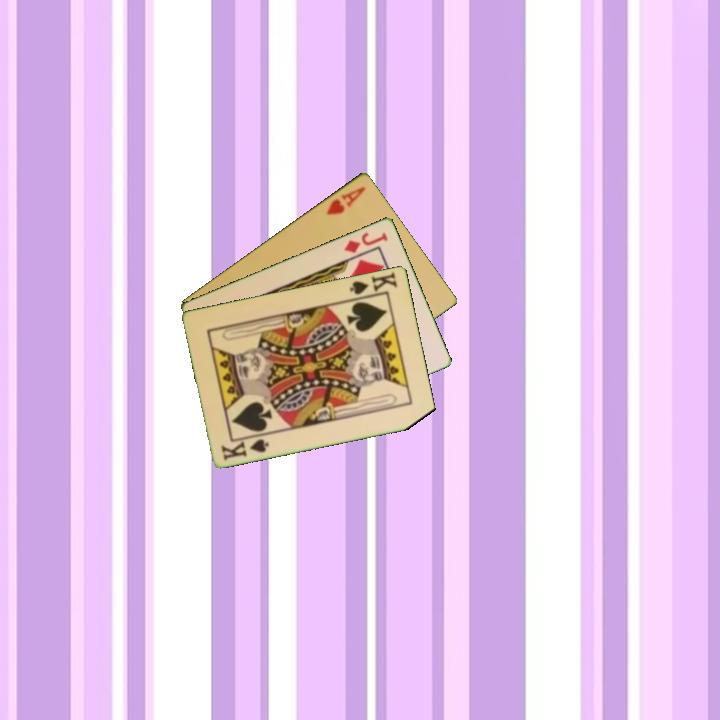Ah: (323, 183, 369, 218)
Jd: (340, 228, 391, 256)
Ks: (346, 268, 400, 297), (218, 435, 272, 463)
